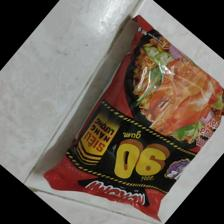Kokomi: (43, 18, 224, 224)
